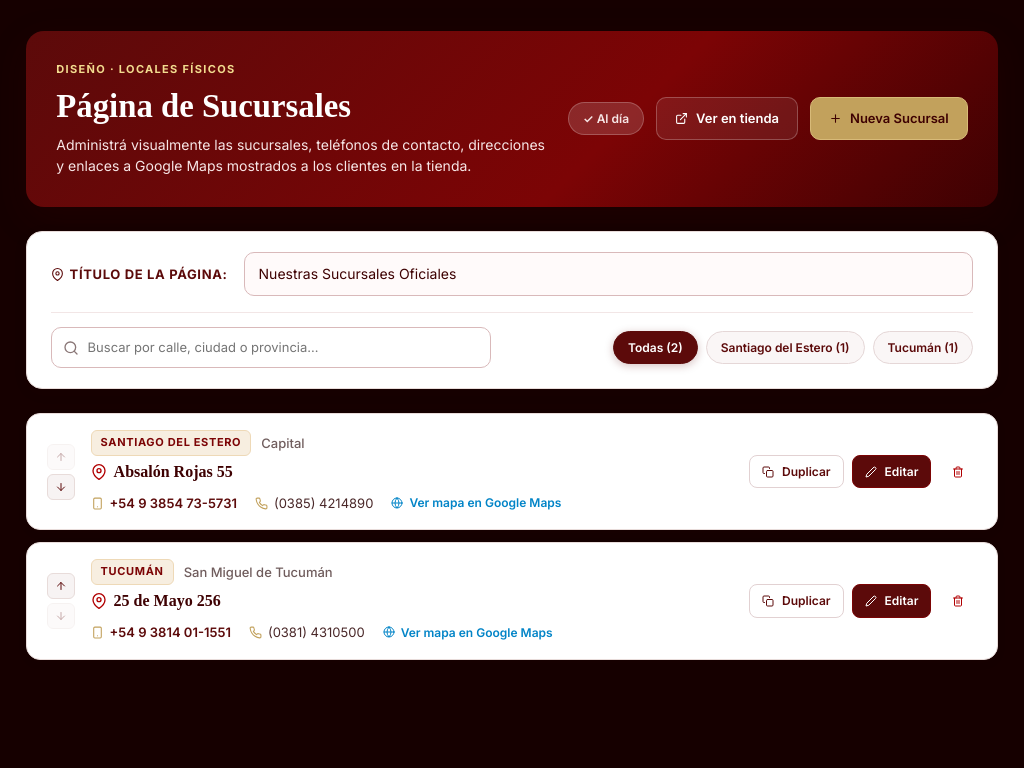
Scenario: SucursalesAdmin — Panel Administrativo de Sucursales › permite editar, duplicar y eliminar sucursales
The width and height of the screenshot is (1024, 768).
Check: the text "Absalón Rojas 55" is shown, box top-left (114, 462), bottom-right (233, 483)
Click the button "Duplicar" in the row of "Absalón Rojas 55" at [796, 472], box top-left (749, 455), bottom-right (844, 488)
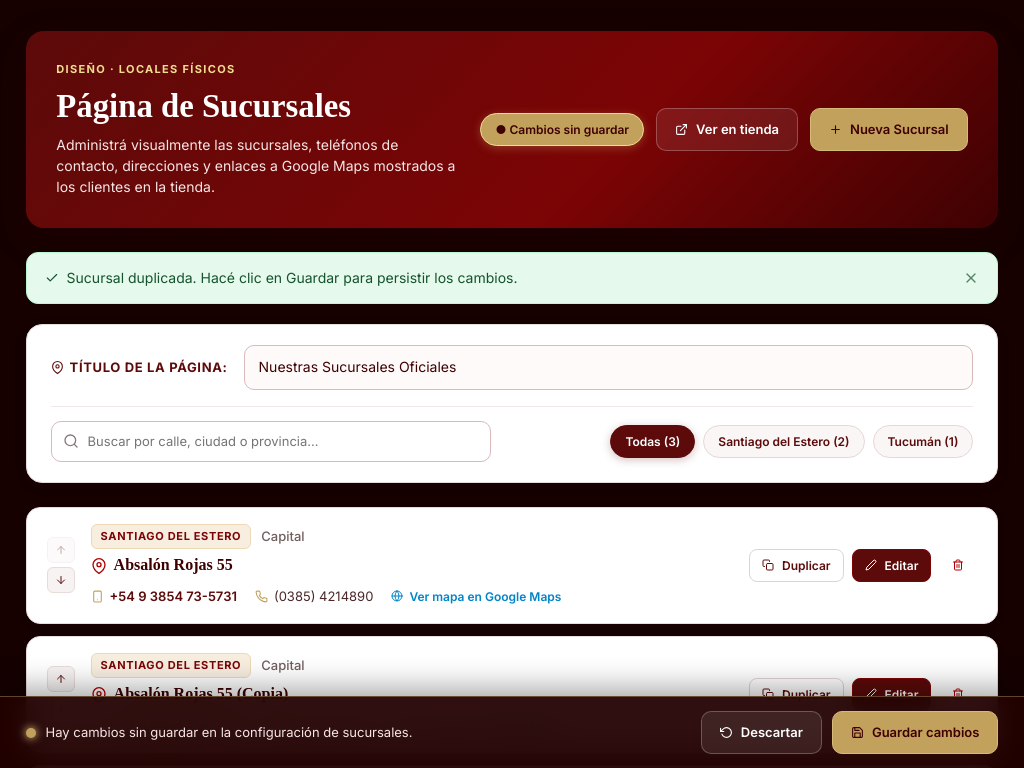
Check: the text "Absalón Rojas 55 (Copia)" is shown, box top-left (114, 684), bottom-right (288, 705)
// Eliminar copia
Click the button named "eliminar sucursal" in the row of "Absalón Rojas 55 (Copia)" at [958, 694], box top-left (939, 681), bottom-right (977, 707)
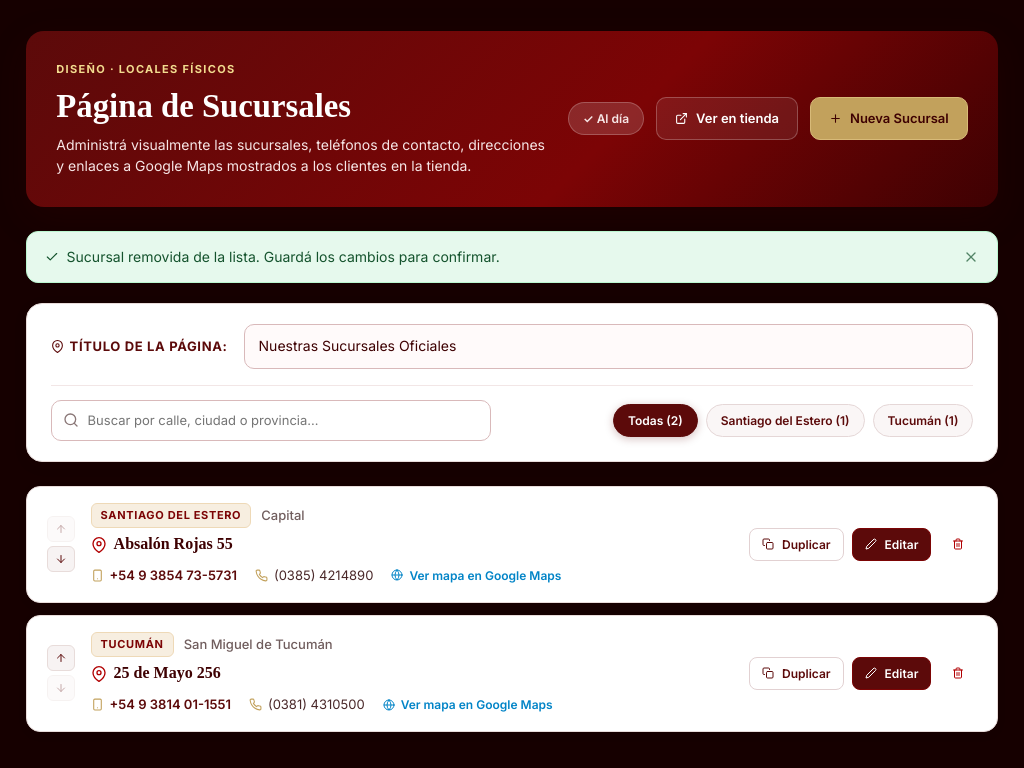
Check: the text "Absalón Rojas 55 (Copia)" is gone
